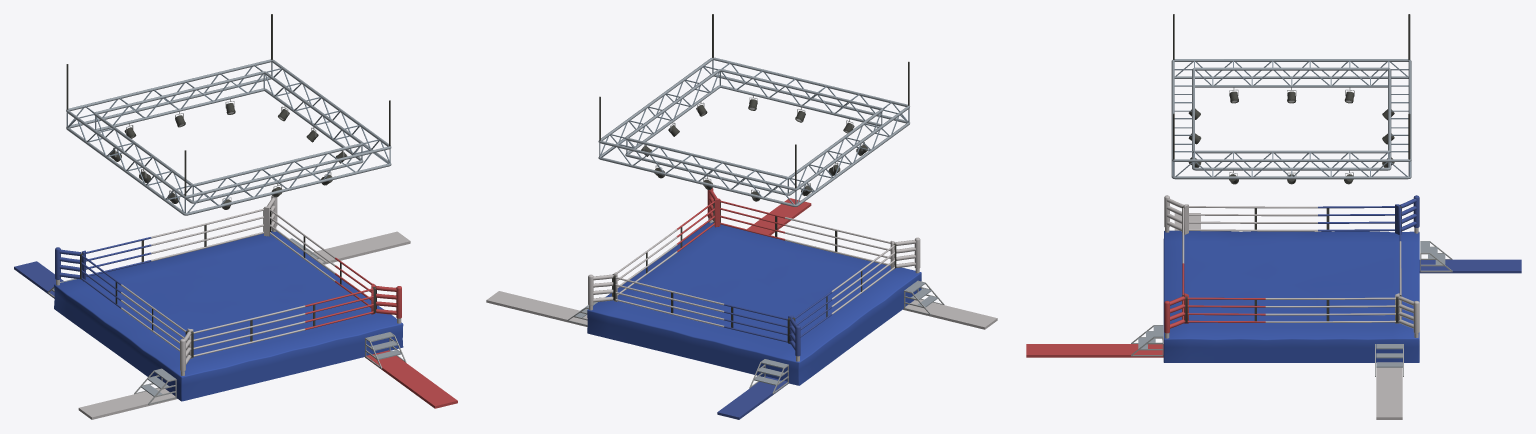
The model's file is ring.glb.
The picture shows the model from 3 angles, left to right: view 1: azimuth 30°, elevation 25°; view 2: azimuth 150°, elevation 25°; view 3: azimuth 270°, elevation 25°; orthographic projection. The views are drawn at different scales.
Parts seen in each view (by area): view 1: Cube.130, Cylinder.634, BezierCurve.013, Cube.299, Cube.293, Cylinder.261, Cube.131, Cube.132, Cylinder.633, Cylinder.262; view 2: Cube.130, Cylinder.634, BezierCurve.013, Cube.299, Cube.293, Cylinder.261, Cube.134, Cube.131; view 3: Cube.130, Cylinder.634, Cube.299, BezierCurve.013, Cylinder.261, Cube.293, Cube.134, Cube.132, Cube.133, Cylinder.633.
Part boxes in pixels (bbox=[...]): Cube.130: bbox=[54, 230, 403, 401]; Cylinder.634: bbox=[66, 59, 391, 215]; BezierCurve.013: bbox=[80, 208, 376, 357]; Cube.299: bbox=[14, 231, 457, 419]; Cube.293: bbox=[66, 62, 390, 213]; Cylinder.261: bbox=[55, 195, 401, 375]; Cube.131: bbox=[134, 368, 176, 404]; Cube.132: bbox=[365, 332, 406, 368]; Cylinder.633: bbox=[66, 14, 390, 196]; Cylinder.262: bbox=[115, 225, 341, 341]; Cube.130: bbox=[587, 222, 921, 385]; Cylinder.634: bbox=[598, 57, 909, 206]; BezierCurve.013: bbox=[613, 200, 895, 342]; Cube.299: bbox=[486, 198, 997, 419]; Cube.293: bbox=[599, 60, 909, 204]; Cylinder.261: bbox=[588, 188, 920, 361]; Cube.134: bbox=[749, 359, 788, 394]; Cube.131: bbox=[904, 280, 944, 315]; Cube.130: bbox=[1163, 230, 1419, 362]; Cylinder.634: bbox=[1171, 59, 1411, 179]; Cube.299: bbox=[1026, 213, 1521, 419]; BezierCurve.013: bbox=[1182, 206, 1401, 322]; Cylinder.261: bbox=[1164, 195, 1419, 338]; Cube.293: bbox=[1172, 60, 1410, 176]; Cube.134: bbox=[1420, 241, 1452, 272]; Cube.132: bbox=[1131, 325, 1163, 356]; Cube.133: bbox=[1375, 344, 1403, 376]; Cylinder.633: bbox=[1173, 14, 1410, 159].
Size of the model in its own units: 51.2 by 28.78 by 52.44.
